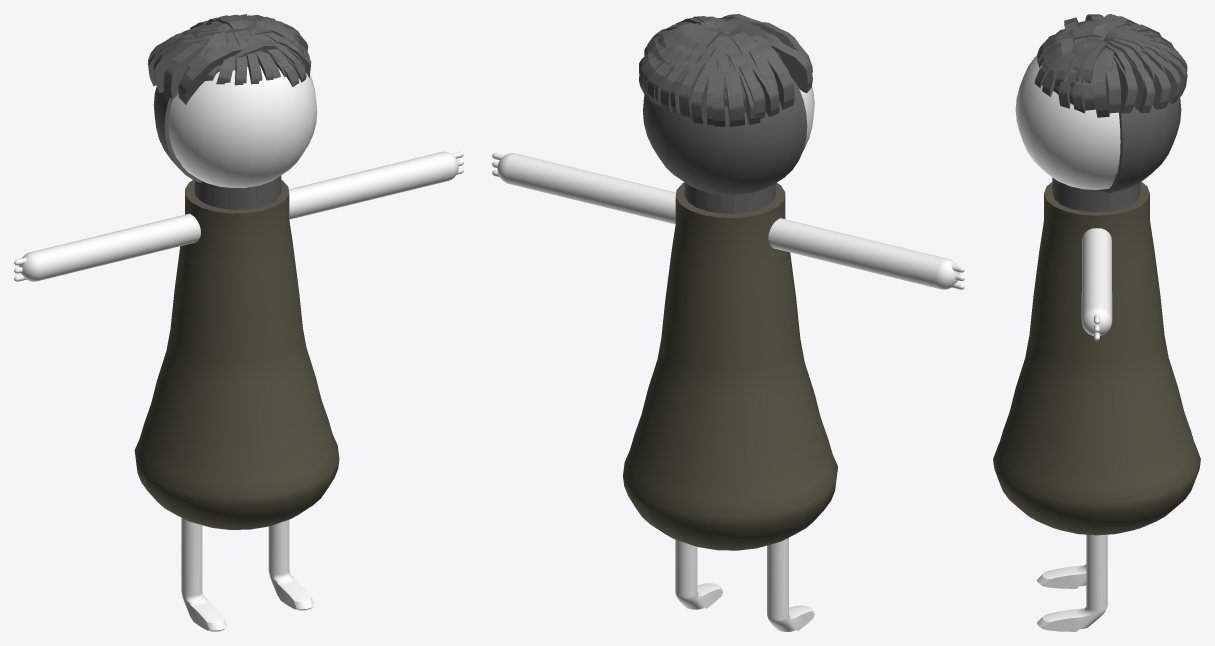
File: escolta3.fbx
The picture shows the model from 3 angles, left to right: view 1: azimuth 30°, elevation 25°; view 2: azimuth 150°, elevation 25°; view 3: azimuth 270°, elevation 25°; orthographic projection. The views are drawn at different scales.
Parts seen in each view (by area): view 1: pSphere89; view 2: pSphere89; view 3: pSphere89.
Part boxes in pixels (x1,y1,x2,y2): pSphere89: (14, 14, 463, 631); pSphere89: (492, 14, 964, 631); pSphere89: (993, 14, 1200, 631).
Bounding box in the file's own units: 49.18 × 59.75 × 19.53.
